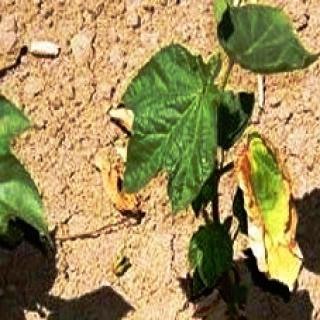wilt: (231, 133, 315, 285)
